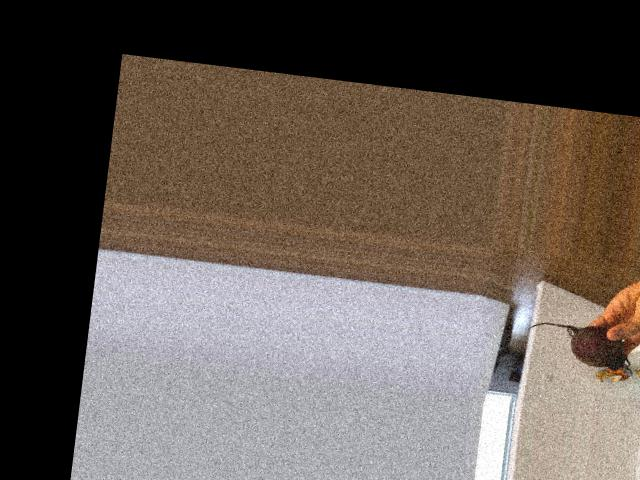beet: (524, 318, 633, 371)
